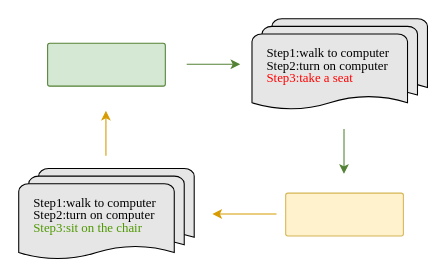
The diagram is 446 pixels wide and 279 high, and some of its shapes have lost their labels. Here are the shapes that lost their labels. From the top down, the centre of each, then its label:
At point (106, 64): "任务分解".
At point (344, 214): "动作映射".
